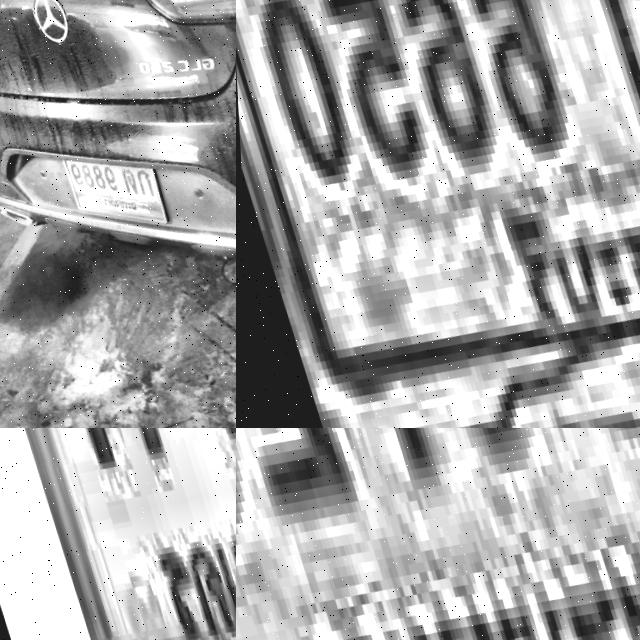license-plate: (236, 0, 640, 428), (236, 428, 640, 640), (0, 428, 236, 640), (52, 125, 169, 244)
